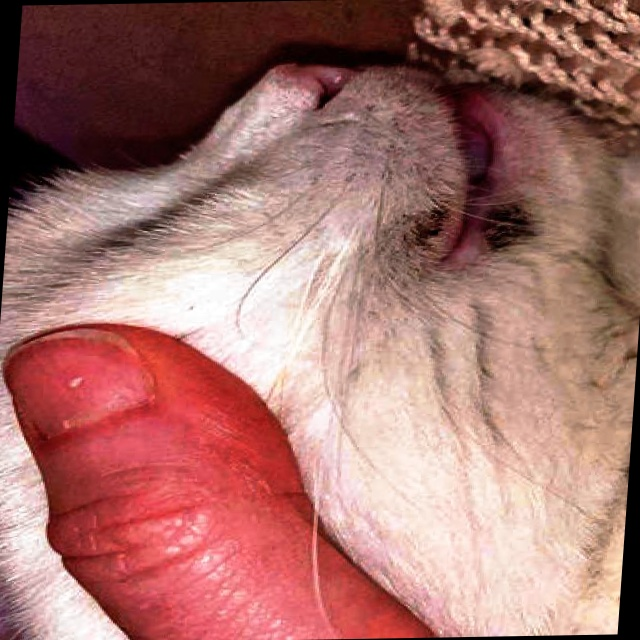acne: (383, 205, 462, 257), (472, 203, 544, 249)
